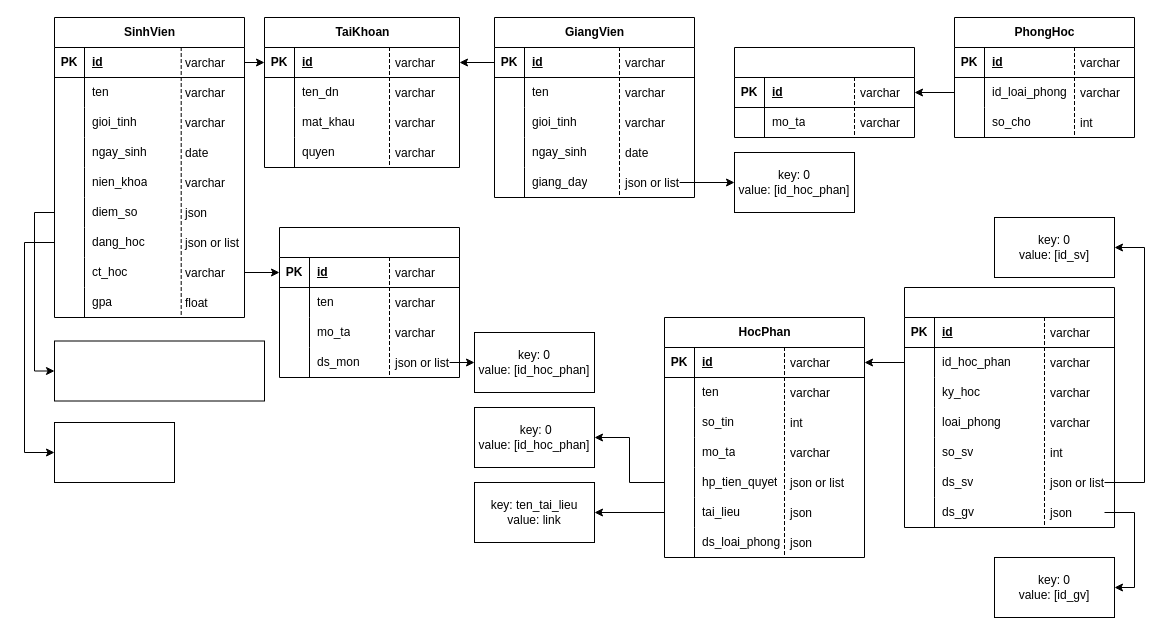
The diagram is 1170 pixels wide and 635 high, and some of its shapes have lost their labels. Each missing label, with the box of its shape:
ChuongTrinhHoc: (278, 226, 460, 378)
key: 0 value: [id_mon_hoc]: (54, 422, 174, 482)
key: id_hoc_phan value: json{key: %diem, value: diem}: (54, 340, 264, 401)
LoaiPhong: (734, 46, 914, 138)
MonHoc: (904, 286, 1114, 528)
